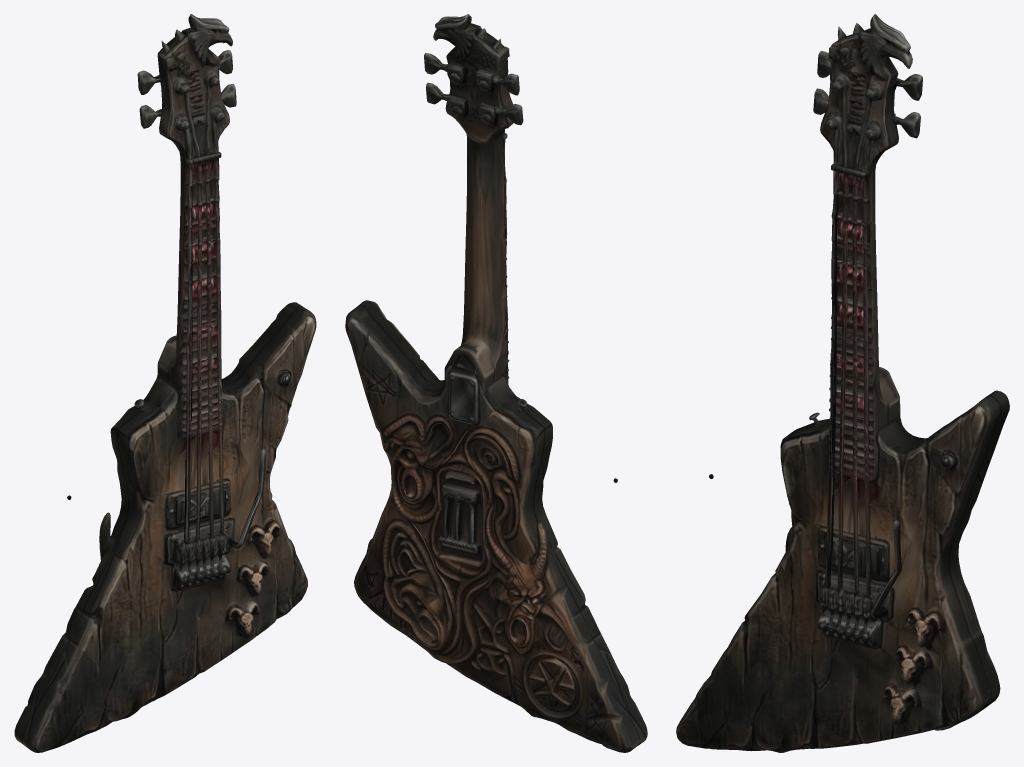
Rendered from xplode.glb.
3 renders of one model, left to right at view 1: azimuth 30°, elevation 25°; view 2: azimuth 150°, elevation 25°; view 3: azimuth 330°, elevation 25°, orthographic. The views are drawn at different scales.
Parts seen in each view (by area): view 1: xplode; view 2: xplode; view 3: xplode.
Part boxes in pixels (box(x1,y1,x2,y2)): xplode: box(14, 14, 316, 752); xplode: box(345, 14, 647, 752); xplode: box(676, 14, 1009, 752).
Bounding box in the file's own units: 0.4326 × 1 × 0.1102.
1 material, 1 textured.
